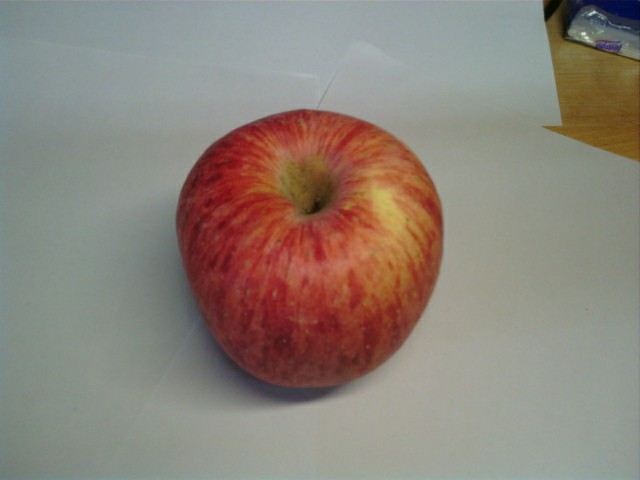normal_apple: (179, 108, 446, 393)
